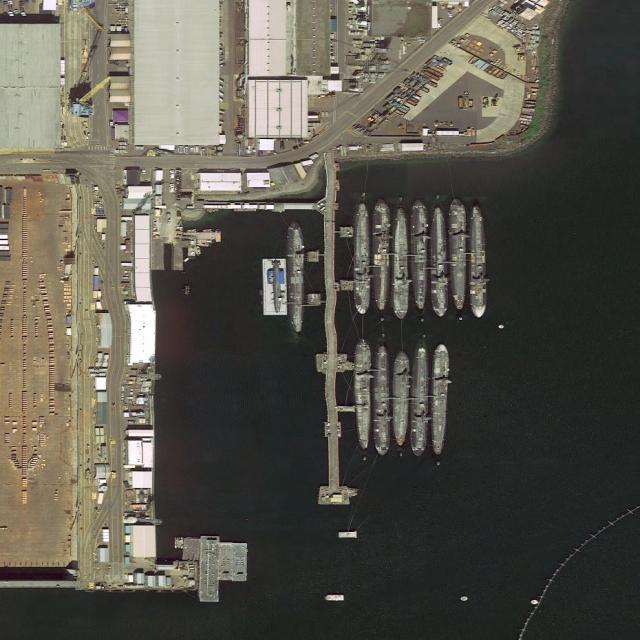Dock: (303, 191, 358, 505)
Submarine: (370, 198, 391, 310), (430, 345, 449, 454), (410, 348, 429, 454), (410, 198, 428, 308), (430, 209, 447, 316), (393, 210, 409, 318), (355, 204, 370, 314), (288, 224, 303, 331), (451, 200, 465, 310), (356, 341, 370, 449), (374, 348, 388, 456), (471, 208, 483, 317), (394, 352, 407, 446), (273, 262, 279, 313)
